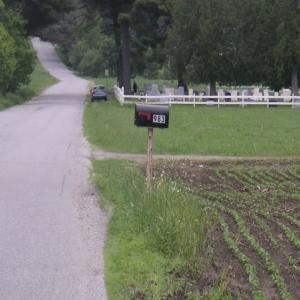Vehicle-registration-plate: (97, 93, 104, 96)
